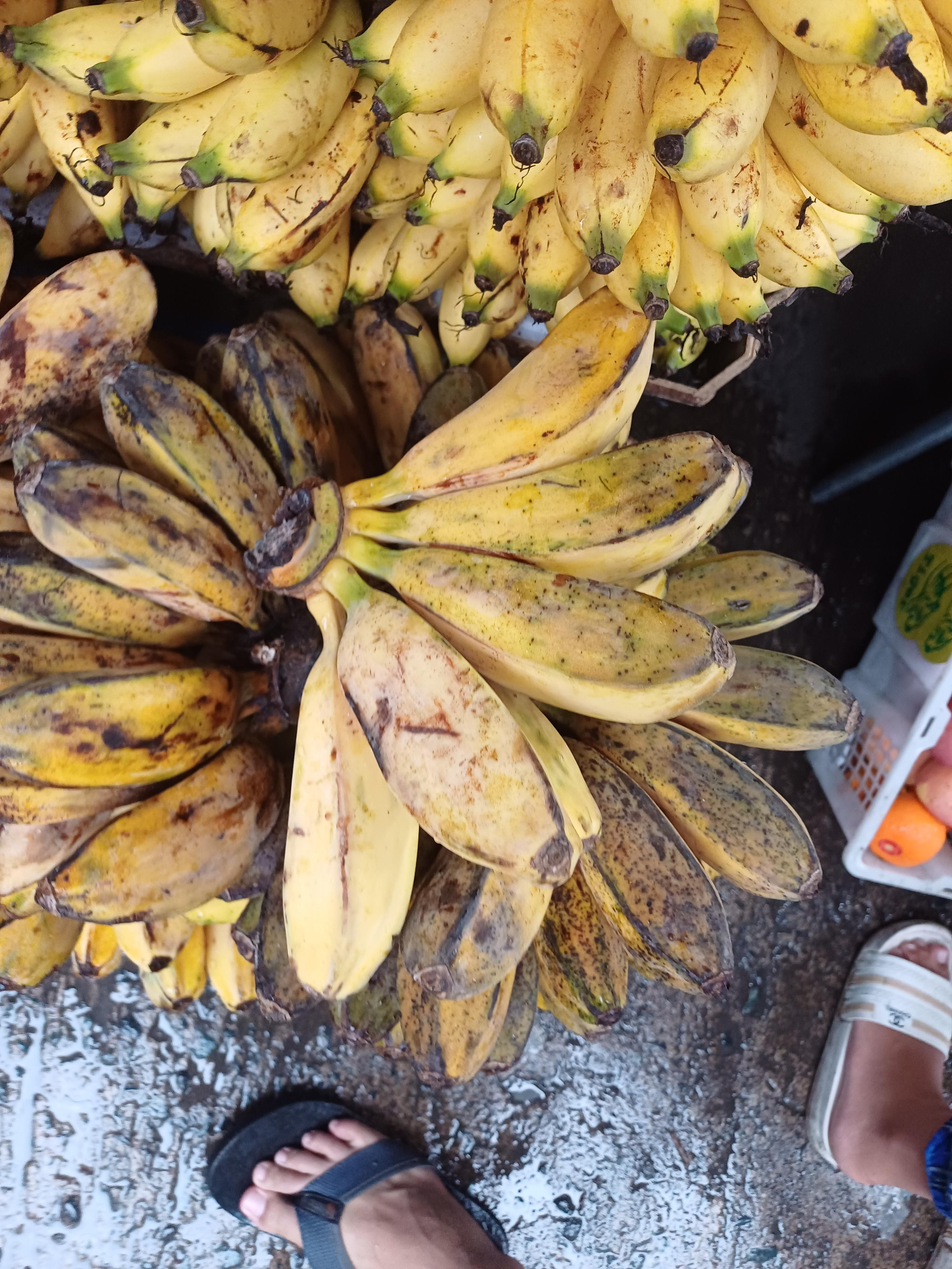ripe: (284, 289, 751, 1005), (0, 320, 338, 924), (532, 550, 859, 1033), (0, 884, 255, 1012)
underripe: (215, 796, 553, 1090)
